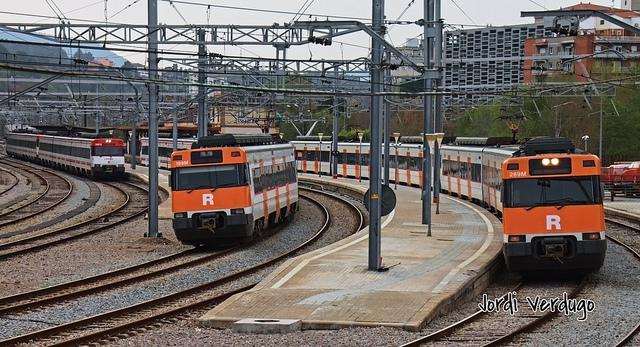Train: (135, 123, 605, 285), (171, 133, 304, 252), (6, 130, 127, 181)
